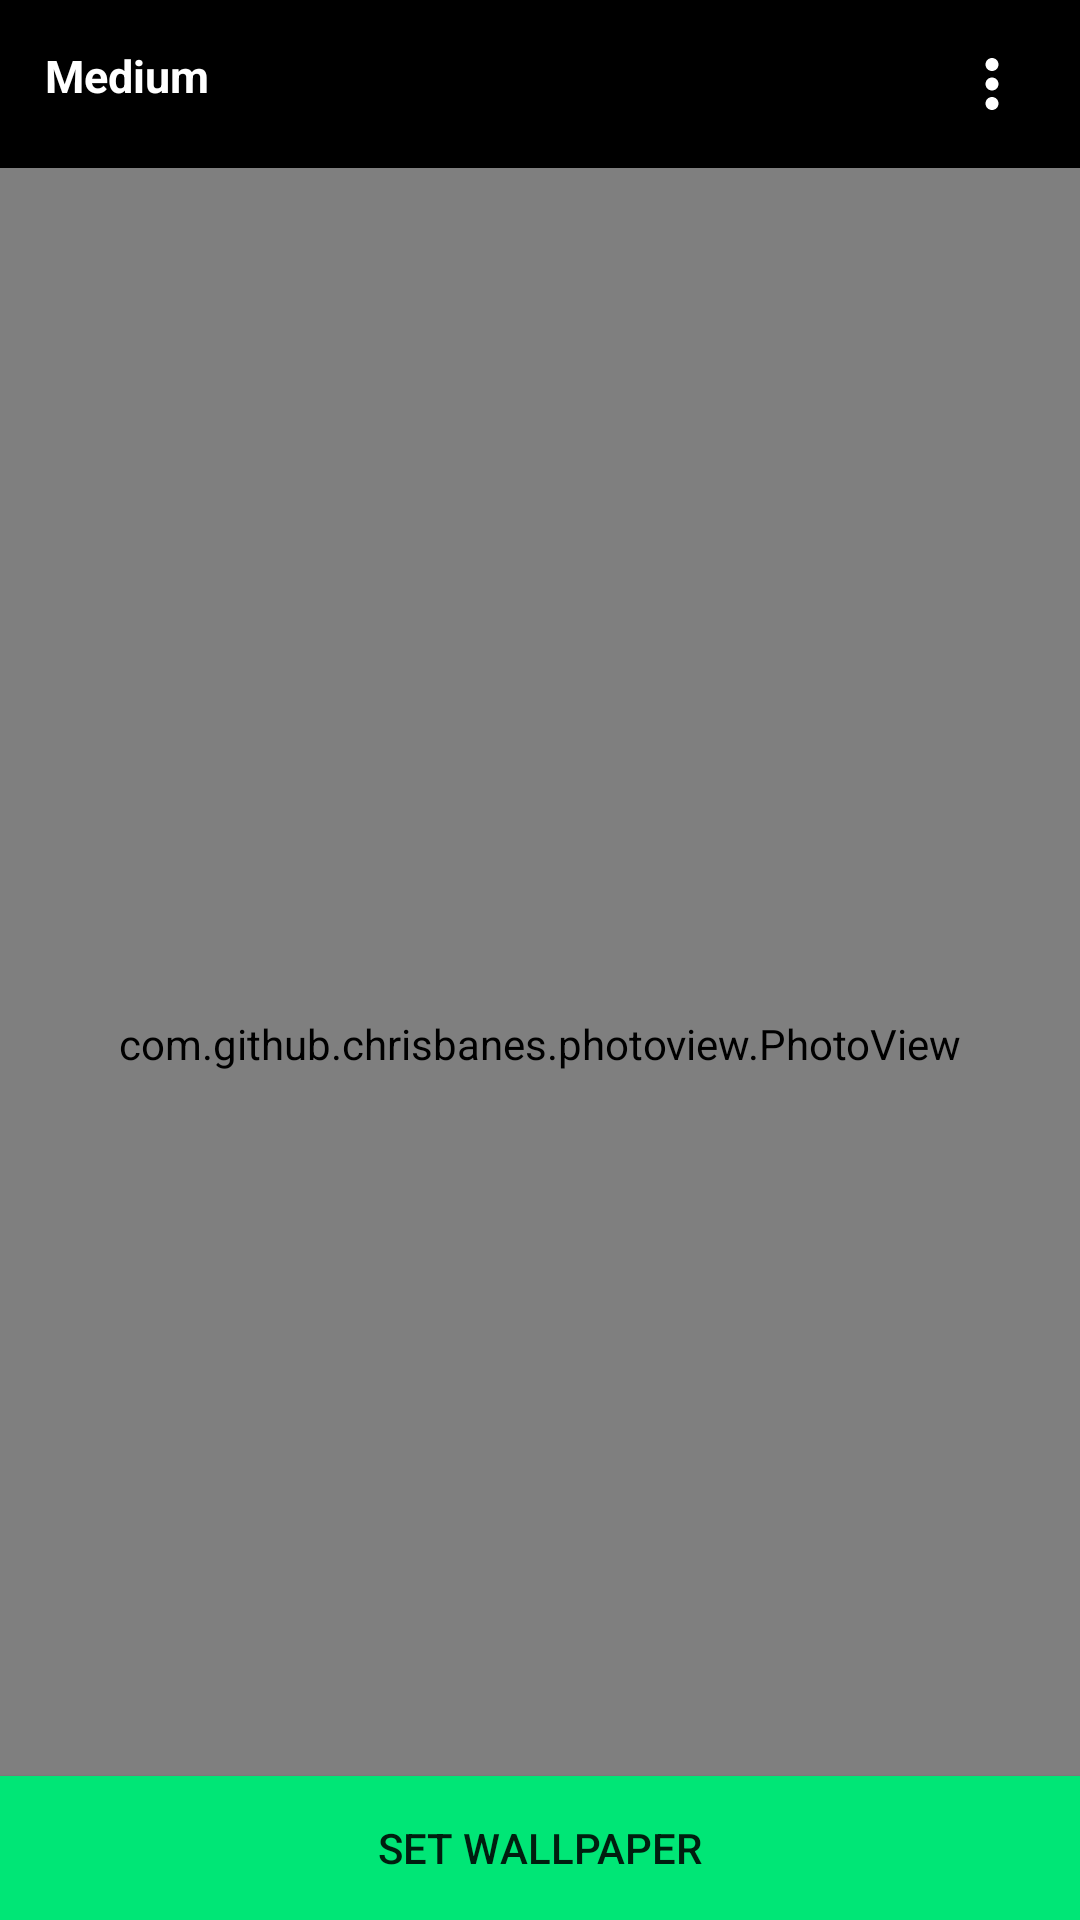

Point at icon controls on the screen. Image size 1080x1920, points as point (x, y).
more: point (992, 84)
